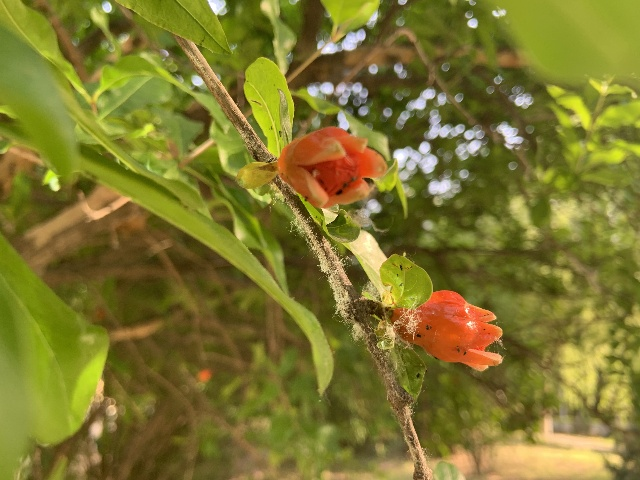flower: (389, 289, 502, 372), (278, 126, 387, 207)
